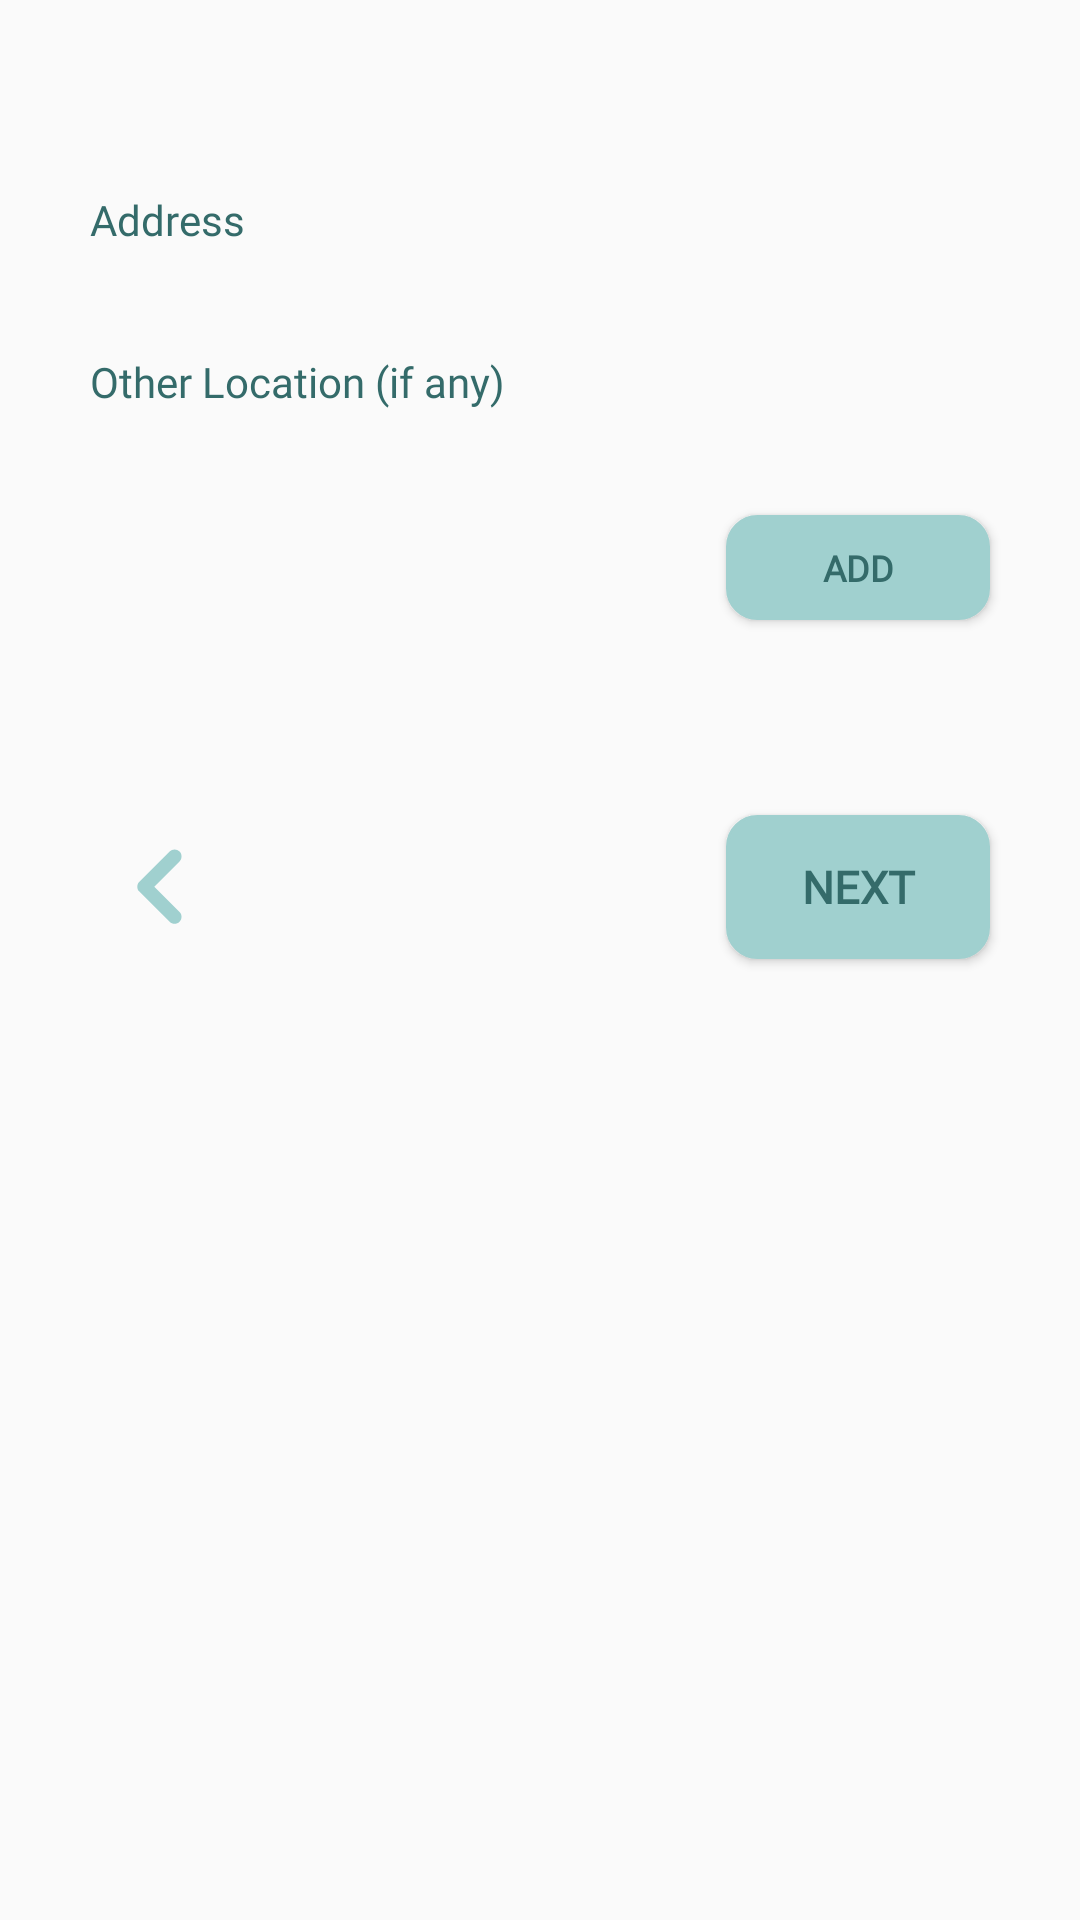

Screen size 1080 × 1920. Icon name, then its box in pixels as (x1, y1, x2, y2):
back: (137, 849, 182, 924)
